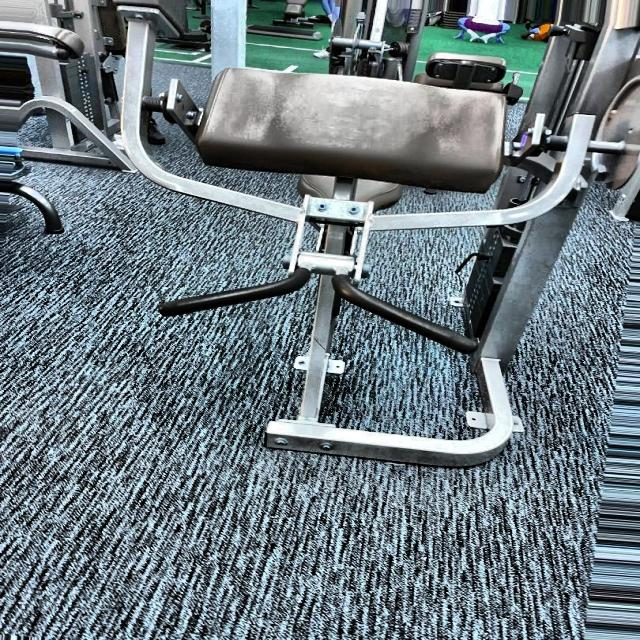bicep_curl_machine: (113, 34, 549, 474)
